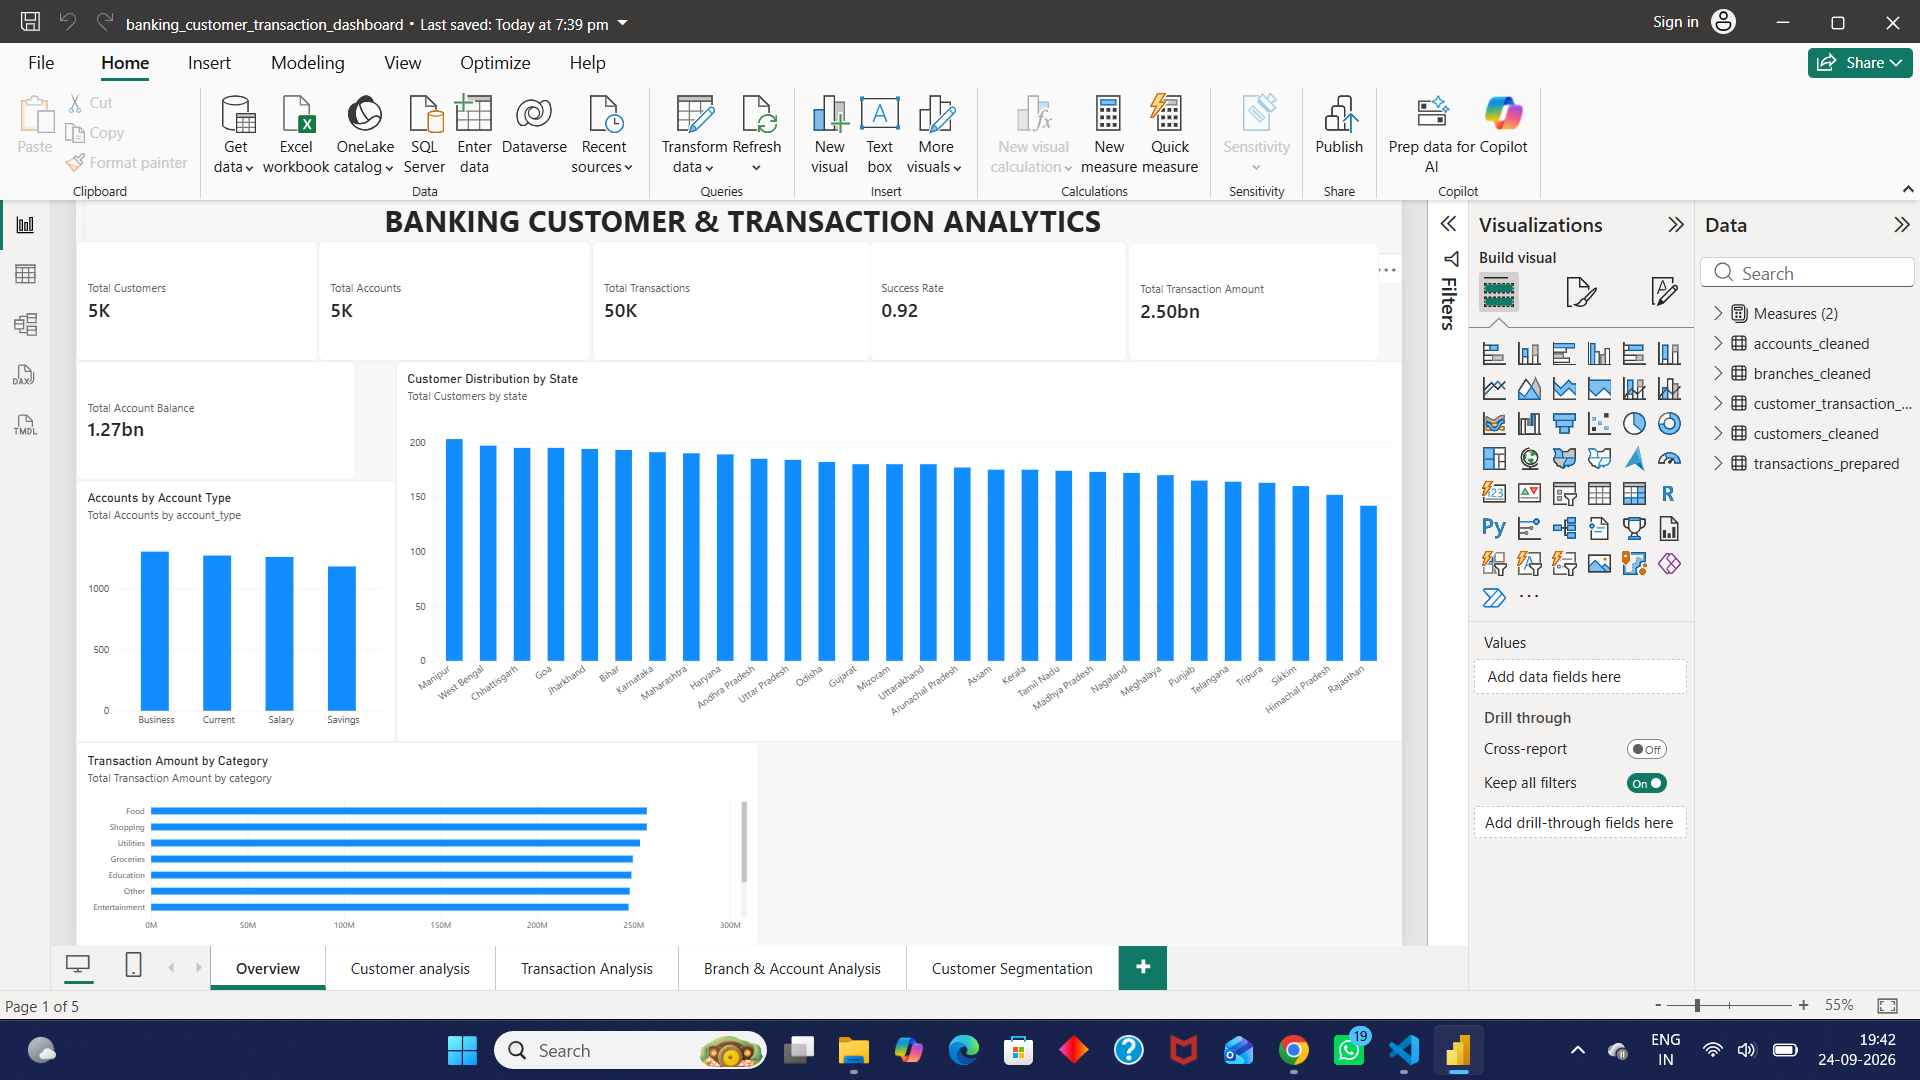

What the dashboard file says about the page in this screenshot:
{"tool":"powerbi","page":{"name":"Overview","canvas":[1920,1080],"ordinal":0},"visuals":[{"type":"textbox","box":[11.1,0,1909.3,77.5],"z":0},{"type":"cardVisual","fields":{"Data":["Measures (2).Total Customers"]},"box":[0,59.9,350.5,173.4],"z":1000},{"type":"cardVisual","fields":{"Data":["Measures (2).Total Accounts"]},"box":[351.3,59.9,394.8,173.4],"z":2000},{"type":"cardVisual","fields":{"Data":["Measures (2).Total Transactions"]},"box":[746.6,59.9,404,173.4],"z":3000},{"type":"cardVisual","fields":{"Data":["Measures (2).Total Transaction Amount"]},"box":[1523.1,61.9,363.3,171.7],"z":4000},{"type":"cardVisual","fields":{"Data":["Measures (2).Success Rate"]},"box":[1149.8,59.9,372.6,173.4],"z":5000},{"type":"cardVisual","fields":{"Data":["Measures (2).Total Account Balance"]},"box":[0,233.6,405.2,171.7],"z":6000},{"type":"clusteredColumnChart","title":"Customer Distribution by State","fields":{"Category":["customers_cleaned.state"],"Y":["Measures (2).Total Customers"]},"box":[463.1,233.6,1457.3,551],"z":7000},{"type":"clusteredColumnChart","title":"Accounts by Account Type","fields":{"Category":["accounts_cleaned.account_type"],"Y":["Measures (2).Total Accounts"]},"box":[0,405.2,463.1,379.3],"z":8000},{"type":"barChart","title":"Transaction Amount by Category","fields":{"Category":["transactions_prepared.category"],"Y":["Measures (2).Total Transaction Amount"]},"box":[0,784.5,988.2,295.4],"z":9000}]}

Visuals, with their boxes on the page's 1920x1080 design canvas (x1, y1, x2, y2). These are canvas units, not pixel positions in the 1920x1080 screenshot, which may show the page scaled, cropped or inside an application window:
textbox: crop(11, 0, 1920, 78)
cardVisual - Measures (2).Total Customers: crop(0, 60, 350, 233)
cardVisual - Measures (2).Total Accounts: crop(351, 60, 746, 233)
cardVisual - Measures (2).Total Transactions: crop(747, 60, 1151, 233)
cardVisual - Measures (2).Total Transaction Amount: crop(1523, 62, 1886, 234)
cardVisual - Measures (2).Success Rate: crop(1150, 60, 1522, 233)
cardVisual - Measures (2).Total Account Balance: crop(0, 234, 405, 405)
"Customer Distribution by State" clusteredColumnChart: crop(463, 234, 1920, 785)
"Accounts by Account Type" clusteredColumnChart: crop(0, 405, 463, 784)
"Transaction Amount by Category" barChart: crop(0, 784, 988, 1080)
